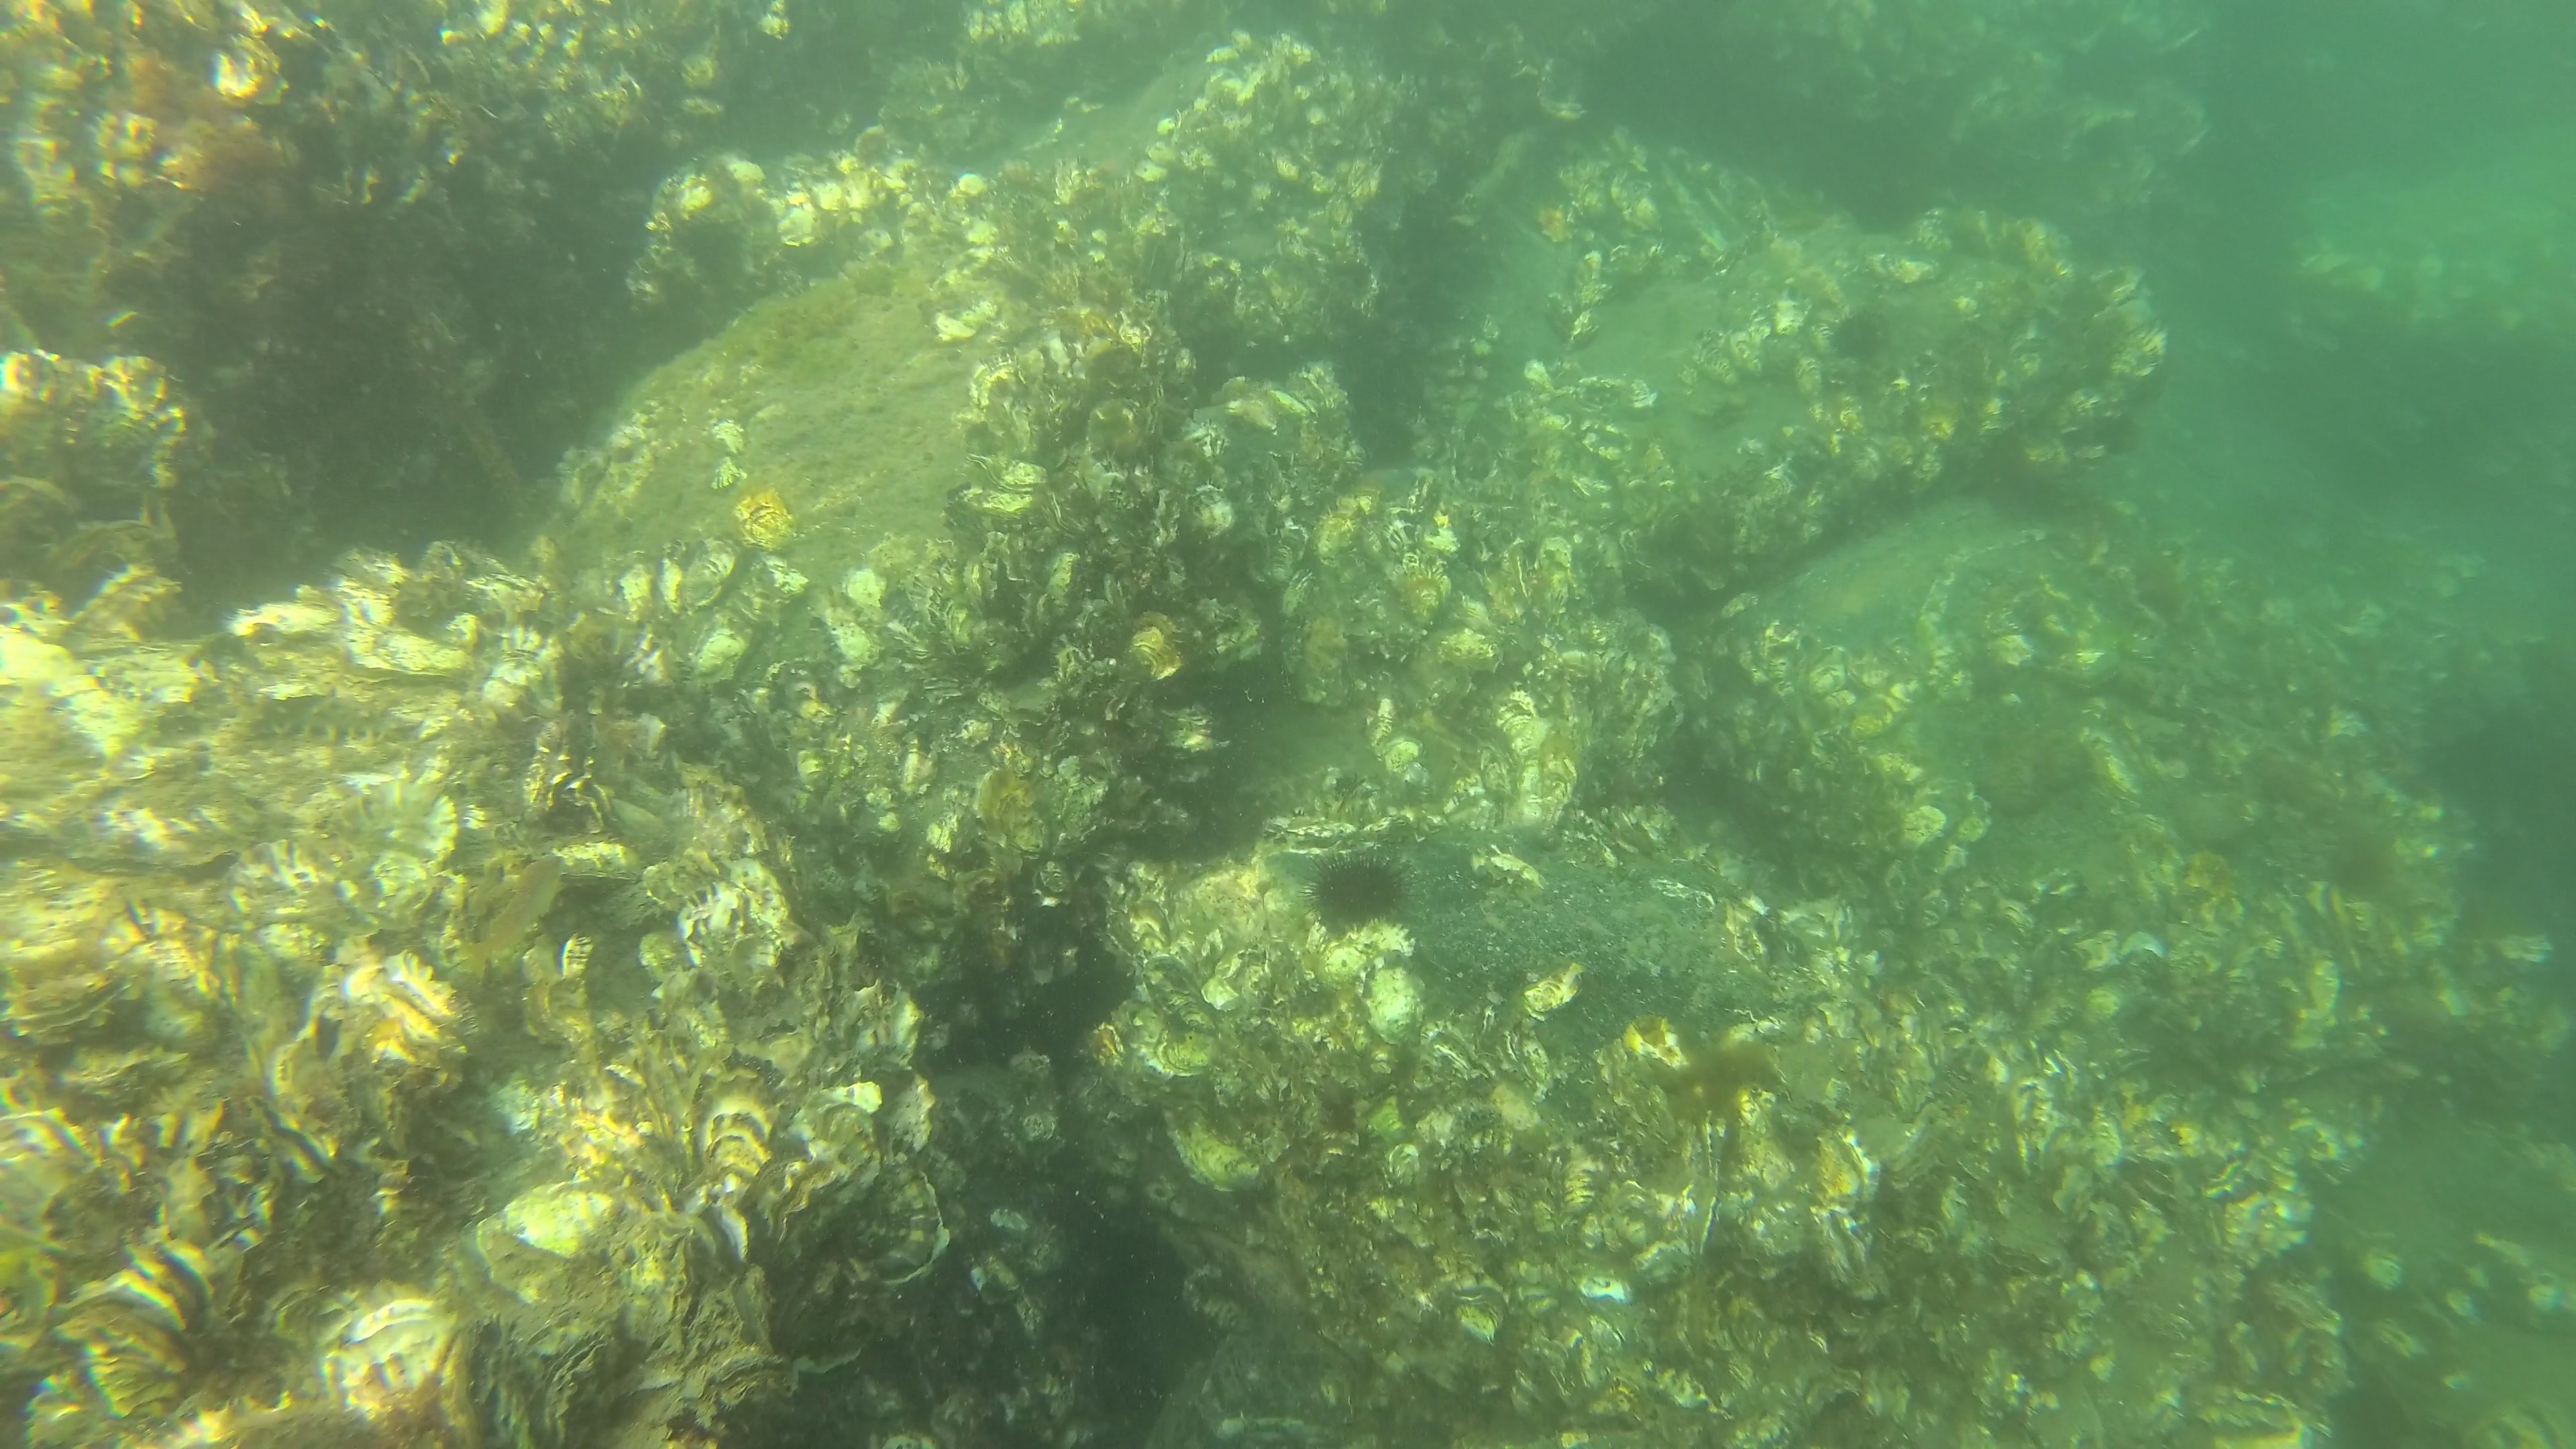echinus: (1300, 855, 1412, 939), (671, 207, 736, 281), (1833, 308, 1884, 370)
